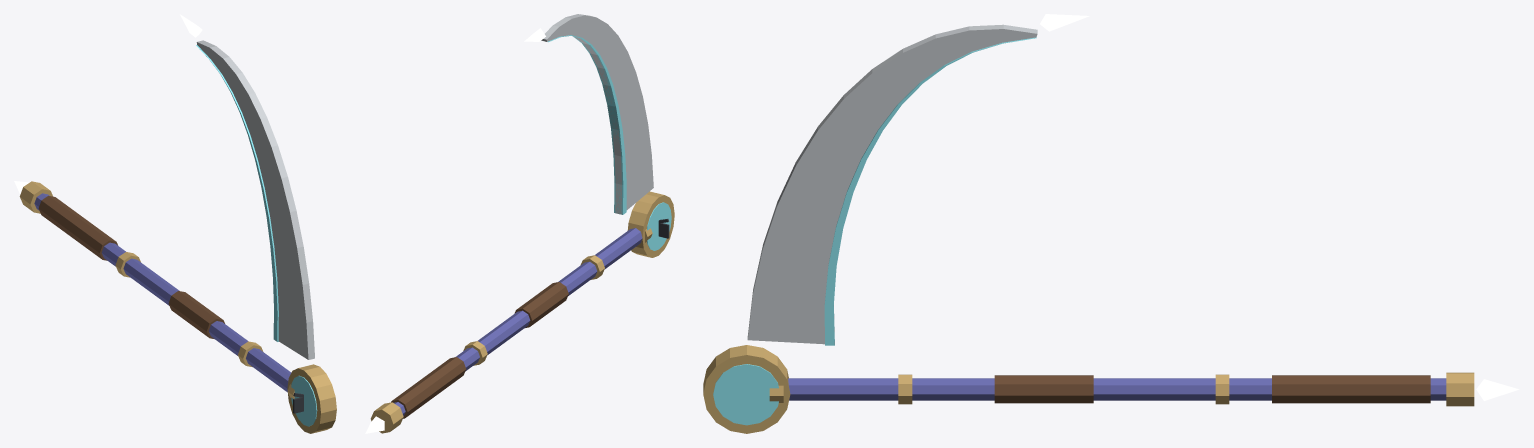
The model's file is Faux_Temps.fbx.
3 views of the same model, side by side, from view 1: azimuth 30°, elevation 25°; view 2: azimuth 150°, elevation 25°; view 3: azimuth 270°, elevation 25° (orthographic). The views are drawn at different scales.
Visible parts, largest first — view 1: Faux_Temps_Acier, Faux_Temps_Indigo, Faux_Temps_Cuir, Faux_Temps_Laiton, Faux_Temps_Noyau; view 2: Faux_Temps_Acier, Faux_Temps_Indigo, Faux_Temps_Cuir, Faux_Temps_Laiton, Faux_Temps_Noyau, Faux_Temps_Cristal; view 3: Faux_Temps_Acier, Faux_Temps_Indigo, Faux_Temps_Cuir, Faux_Temps_Noyau, Faux_Temps_Laiton, Faux_Temps_Cristal.
Boxes of the visible parts, left/top/right/bottom form: Faux_Temps_Acier: left=196, top=40, right=314, bottom=359; Faux_Temps_Indigo: left=34, top=193, right=291, bottom=392; Faux_Temps_Cuir: left=38, top=195, right=224, bottom=338; Faux_Temps_Laiton: left=19, top=181, right=336, bottom=433; Faux_Temps_Noyau: left=196, top=45, right=317, bottom=426; Faux_Temps_Acier: left=541, top=14, right=653, bottom=214; Faux_Temps_Indigo: left=393, top=228, right=642, bottom=416; Faux_Temps_Cuir: left=391, top=282, right=568, bottom=418; Faux_Temps_Laiton: left=370, top=191, right=674, bottom=433; Faux_Temps_Noyau: left=548, top=35, right=671, bottom=250; Faux_Temps_Cristal: left=365, top=28, right=545, bottom=433; Faux_Temps_Acier: left=747, top=24, right=1037, bottom=344; Faux_Temps_Indigo: left=788, top=378, right=1446, bottom=400; Faux_Temps_Cuir: left=994, top=375, right=1430, bottom=403; Faux_Temps_Noyau: left=713, top=37, right=1036, bottom=425; Faux_Temps_Laiton: left=703, top=345, right=1474, bottom=433; Faux_Temps_Cristal: left=1040, top=14, right=1519, bottom=400.
Bounding box in the file's own units: 23 × 231 × 412.
